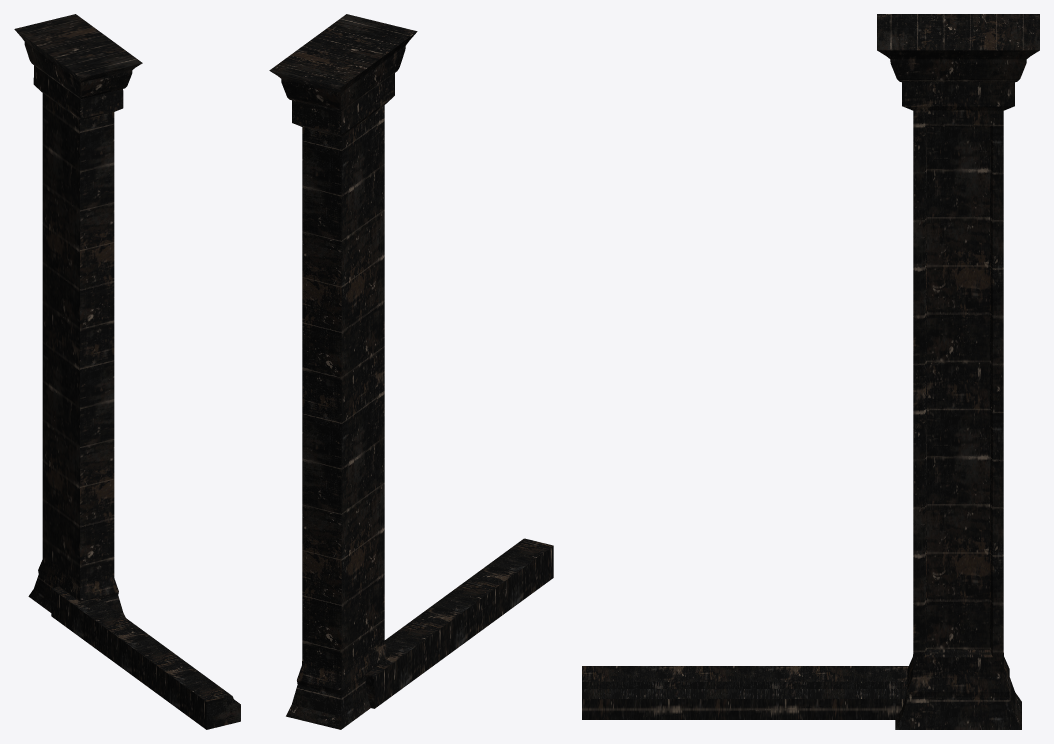
Rendered from Pillars and Wall Bottoms.fbx.
The picture shows the model from 3 angles, left to right: view 1: azimuth 30°, elevation 25°; view 2: azimuth 150°, elevation 25°; view 3: azimuth 270°, elevation 25°; orthographic projection. The views are drawn at different scales.
Visible parts, largest first — view 1: Pillar, Bottom; view 2: Pillar, Bottom; view 3: Pillar, Bottom.
Boxes of the visible parts, box(x1,y1,x2,y2) form: Pillar: box(14, 14, 142, 617); Bottom: box(51, 586, 240, 729); Pillar: box(269, 14, 417, 729); Bottom: box(365, 538, 553, 708); Pillar: box(877, 14, 1039, 729); Bottom: box(582, 666, 908, 719).
Size of the model in its own units: 45.77 by 400 by 243.
Materials: 1 (1 with a texture image).
